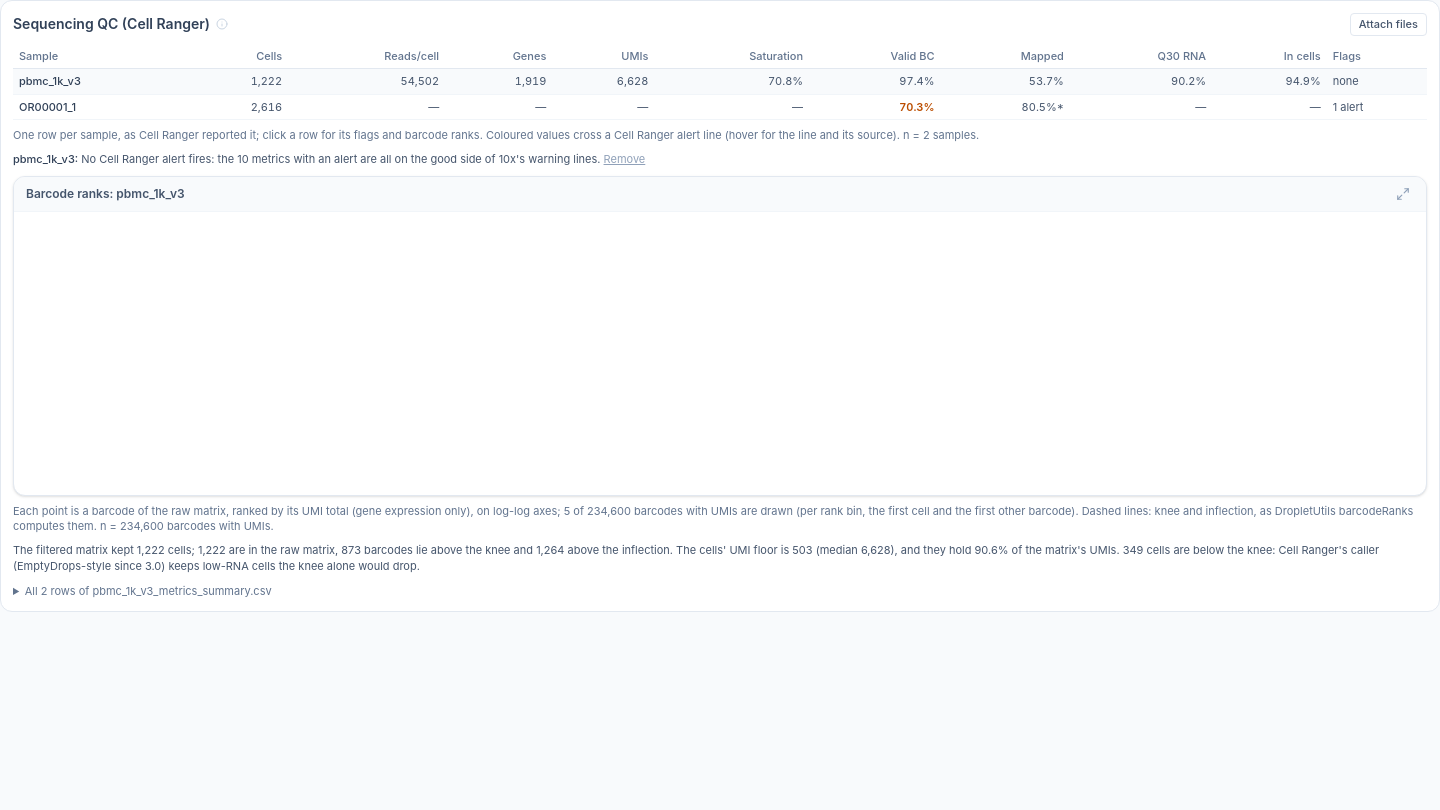
Test: SequencingQc › colours a flagged value, lists the flag with its threshold and source, and switches samples
Click the row "OR00001_1 2,616 — — — — 70.3% 80.5%* — — 1 alert" at (720, 107), box x1=13 y1=94 x2=1427 y2=120
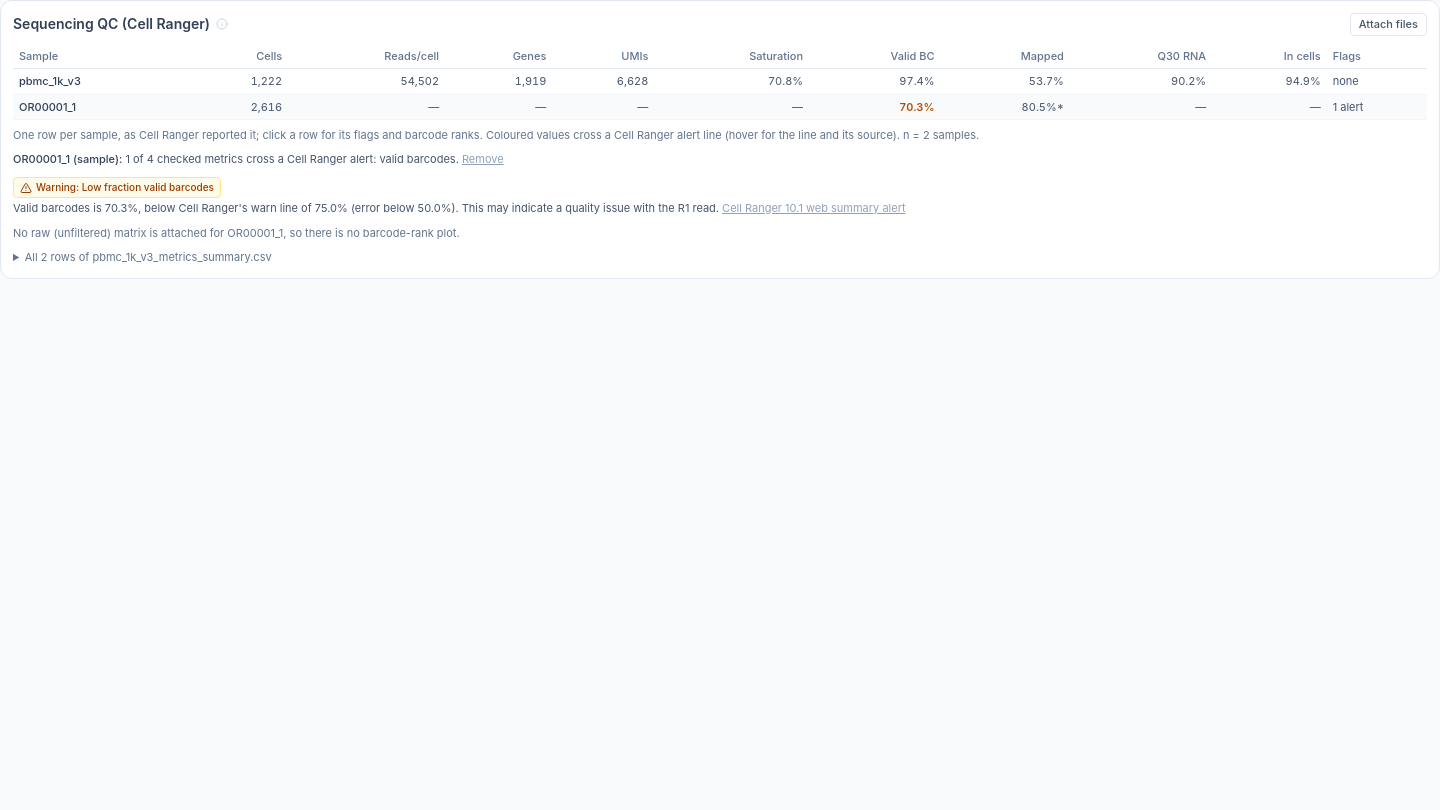
Now the element with test id "seqqc-summary" shows "OR00001_1 (sample): 1 of 4 checked metrics", box x1=13 y1=151 x2=504 y2=168
Now the element with test id "seqqc-flag-badge" reads "Warning: Low fraction valid barcodes", box x1=13 y1=177 x2=221 y2=198
Now the text "below Cell Ranger's warn line of 75.0%" is shown, box x1=13 y1=201 x2=719 y2=215
